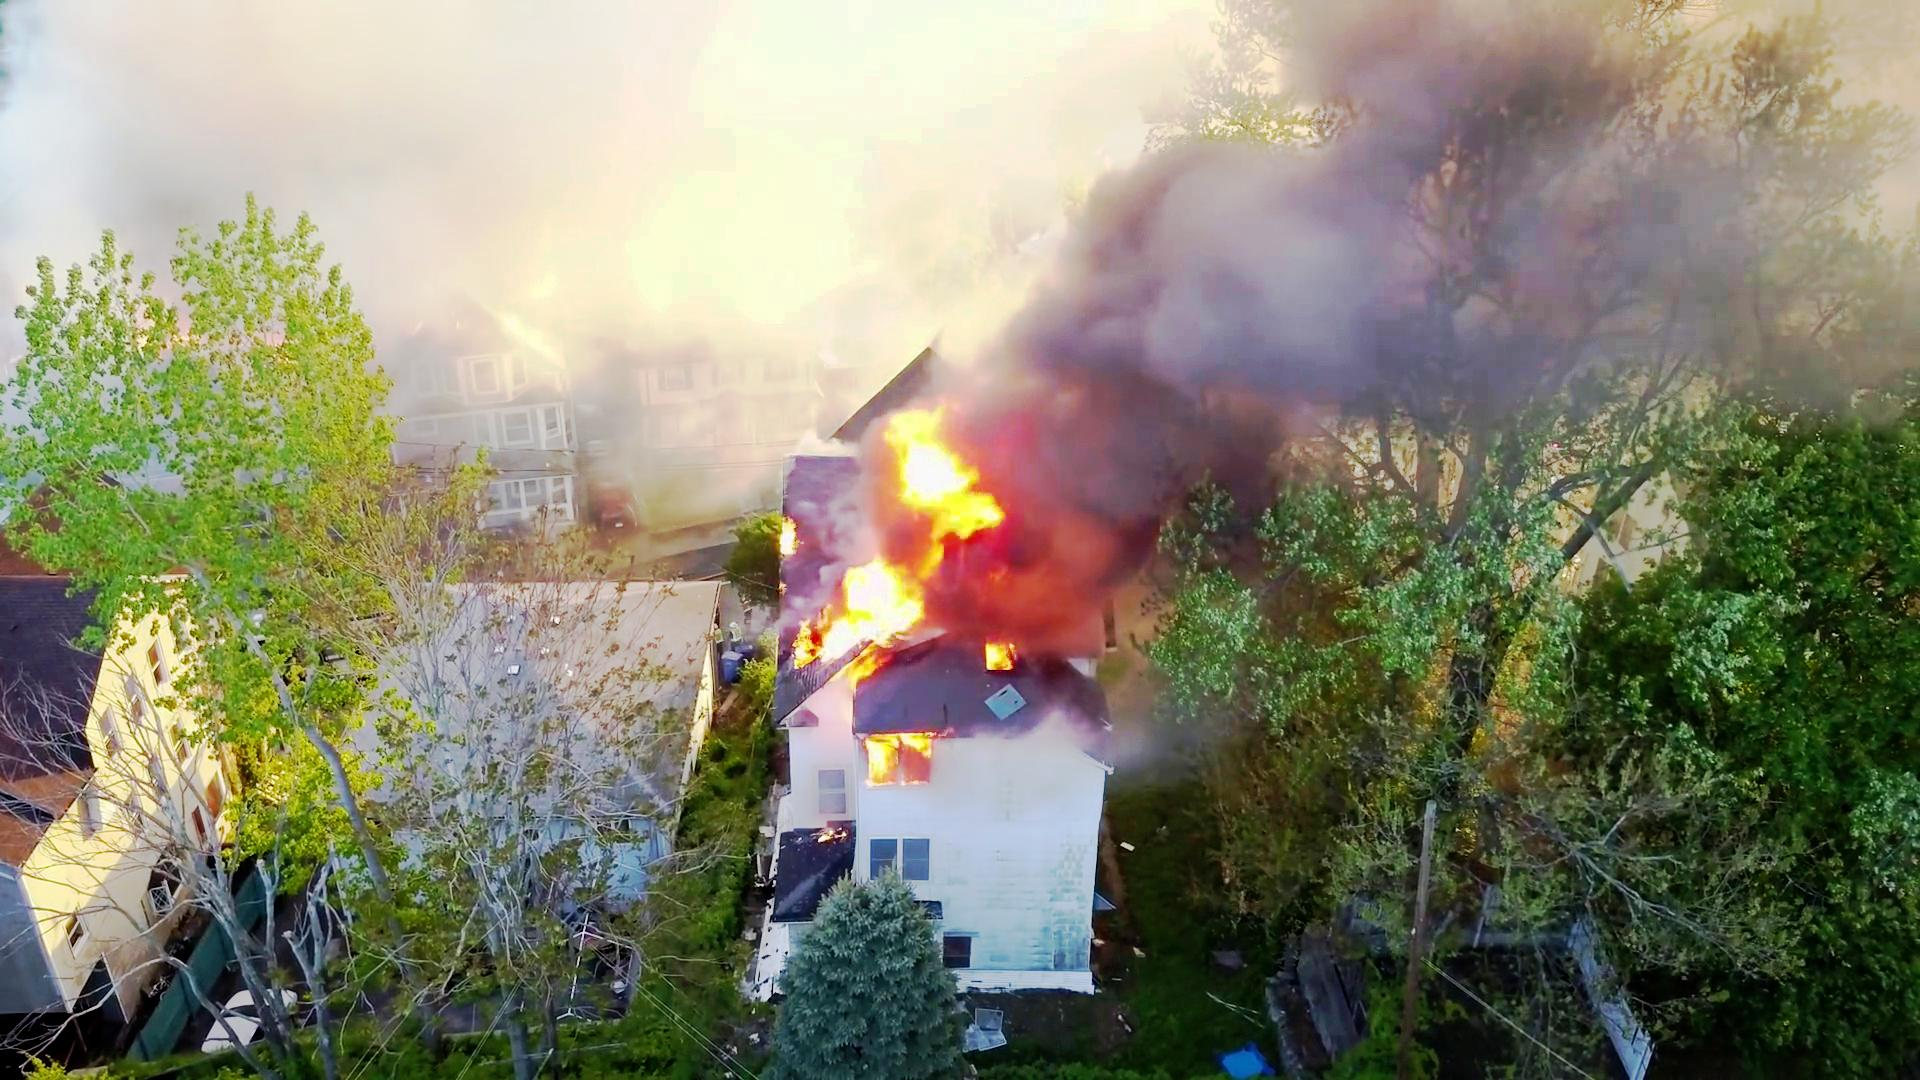fire: (791, 423, 973, 653)
smoke: (1051, 150, 1386, 409)
